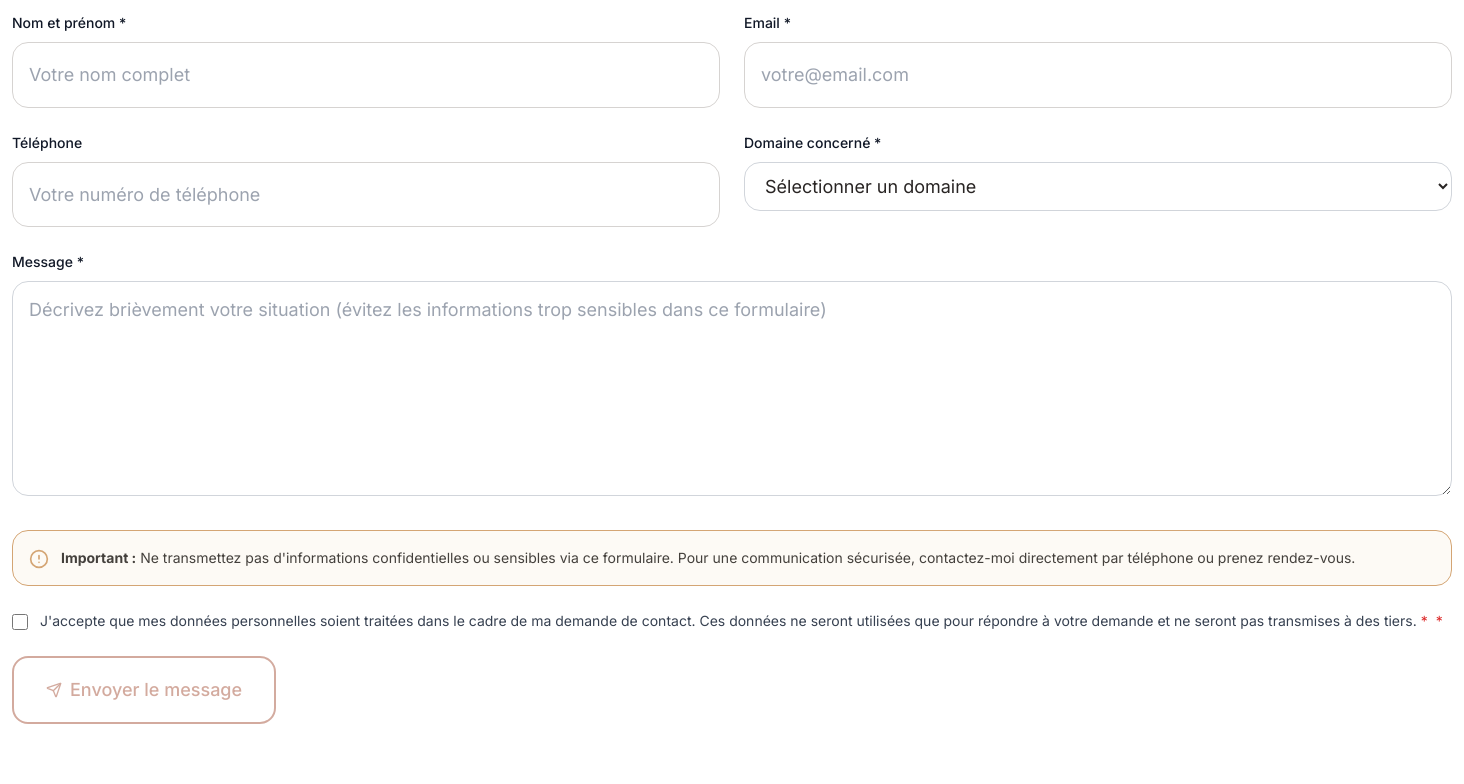
it: ContactForm Integration › should submit form successfully with valid data
# Fill in all required fields
Type "John Doe" into the field labelled "Nom et prénom *" at point(366, 75), box [12,42,720,108]
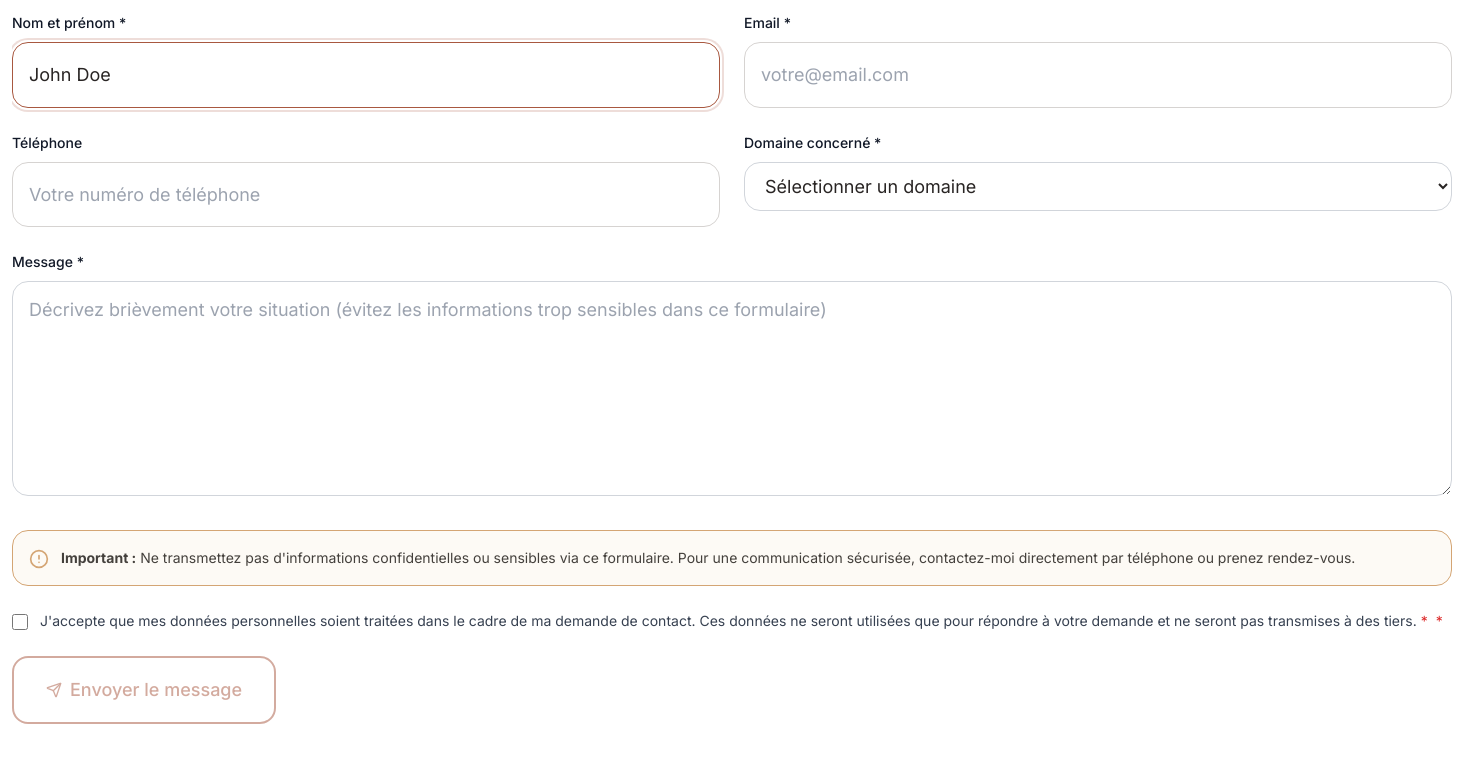
Type "john@example.com" into the field labelled "Email *" at point(1098, 75), box [744,42,1452,108]
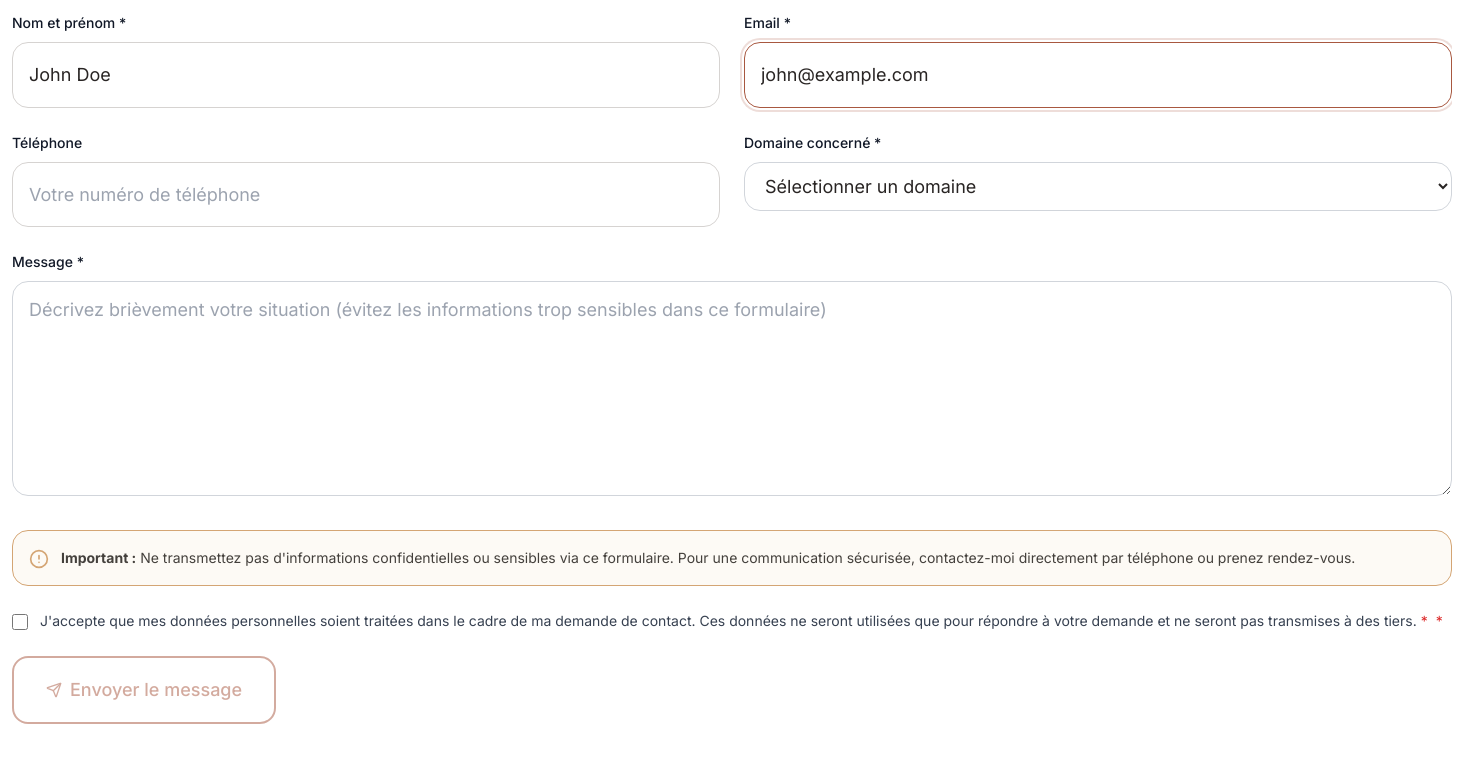
Select "Droit des contrats" in the dropdown labelled "Domaine concerné *" at point(1098, 186), box [744,162,1452,210]
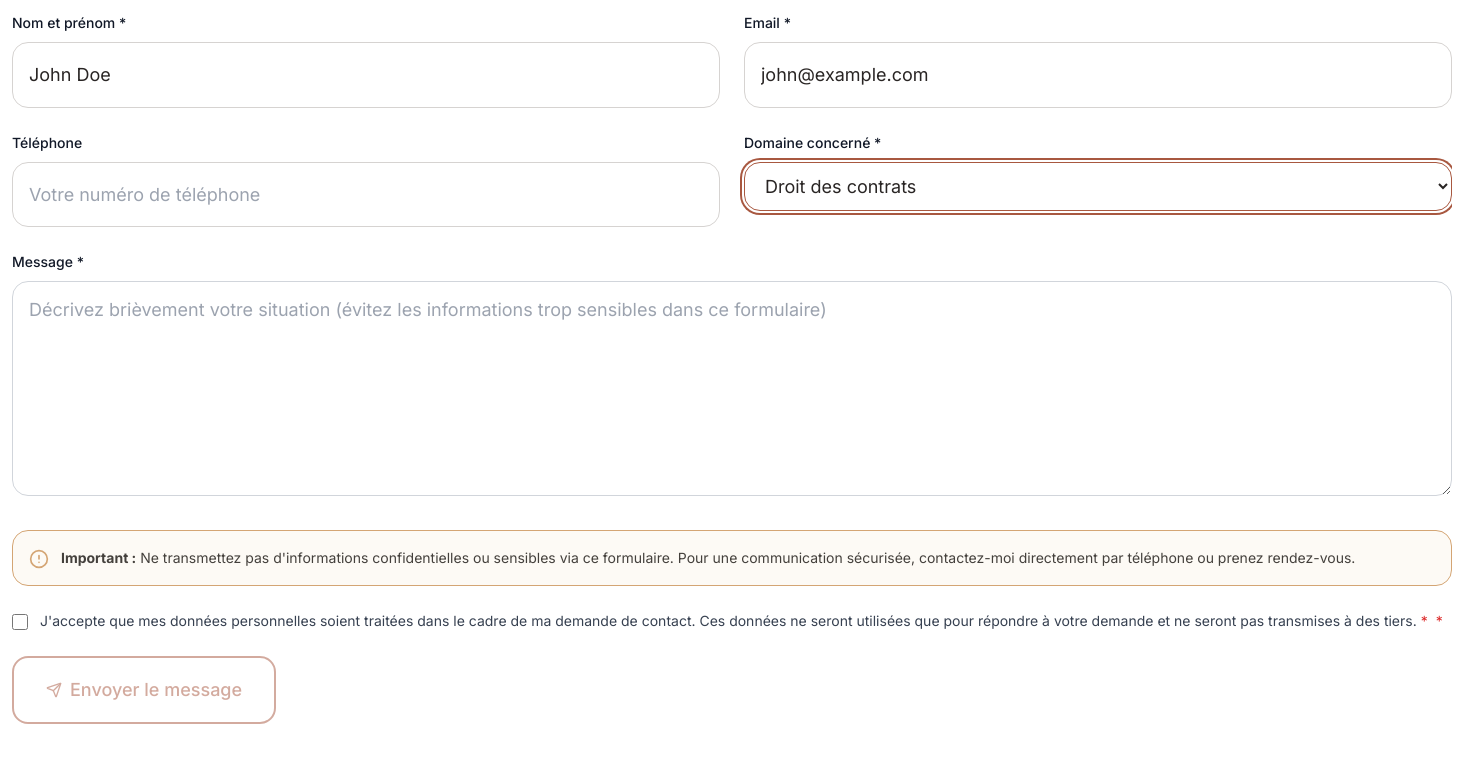
Type "This is a test message with sufficient length" into the text box labelled "Message *" at point(732, 388), box [12,281,1452,496]
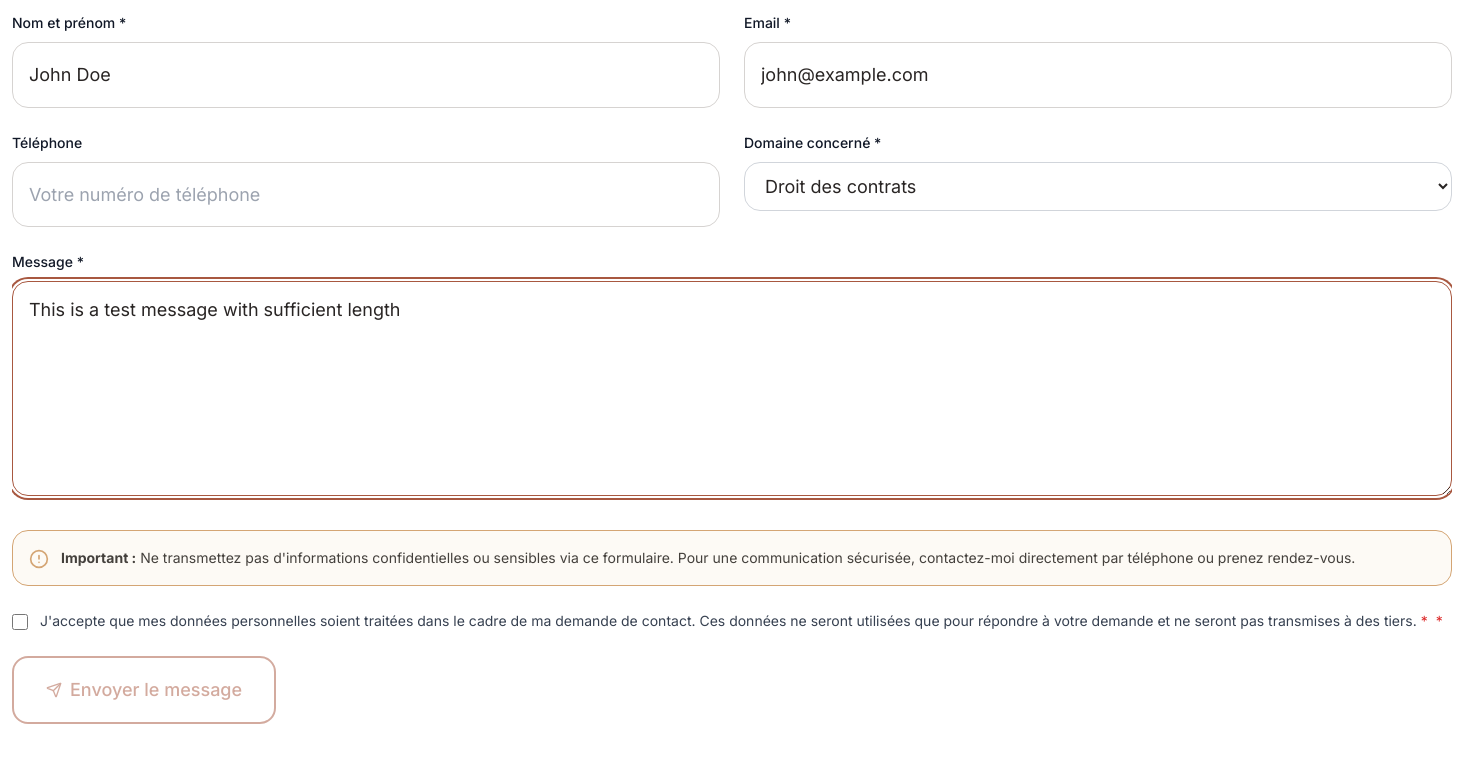
Click the checkbox at point(20, 622), box [12,614,28,630]
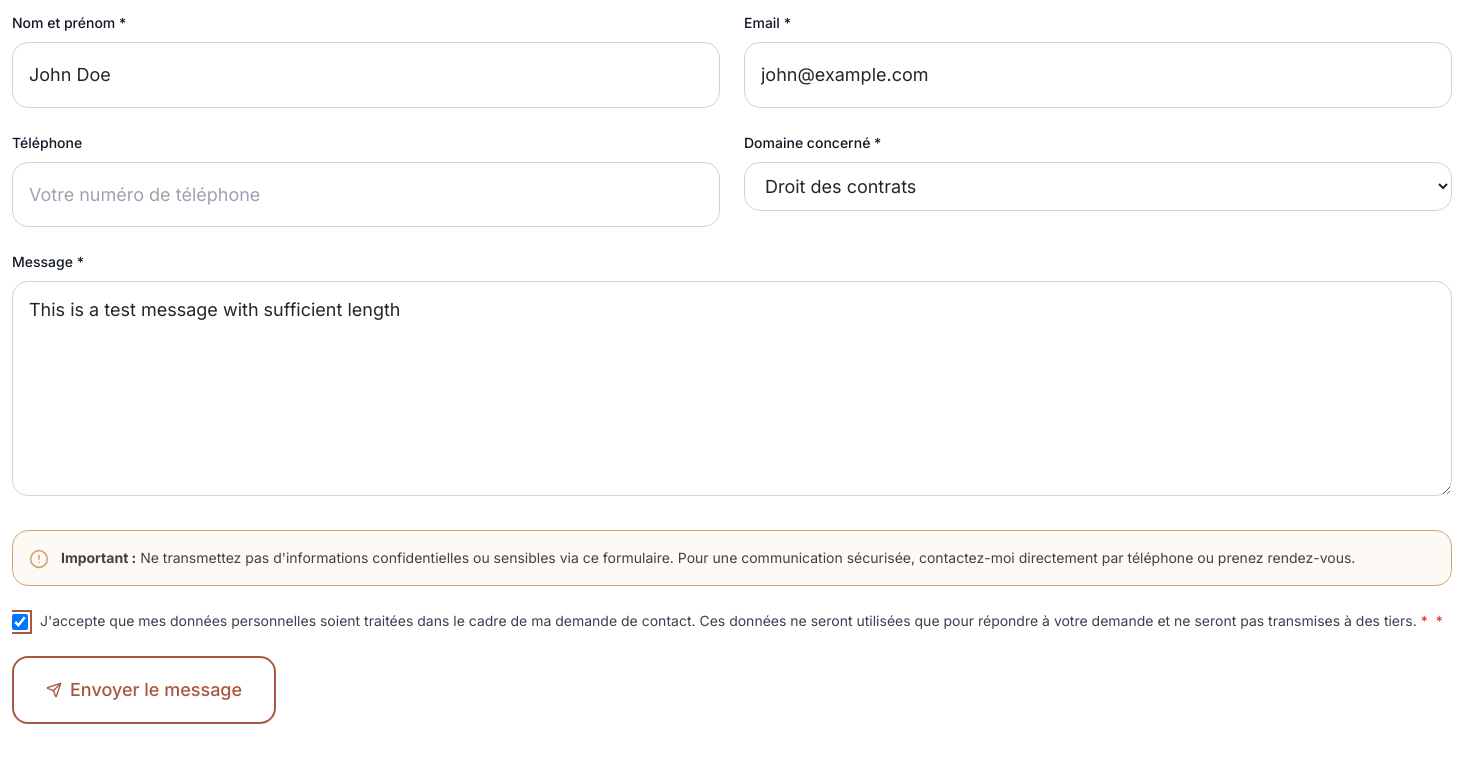
Click the button "Envoyer le message" at point(144, 690), box [12,656,276,724]
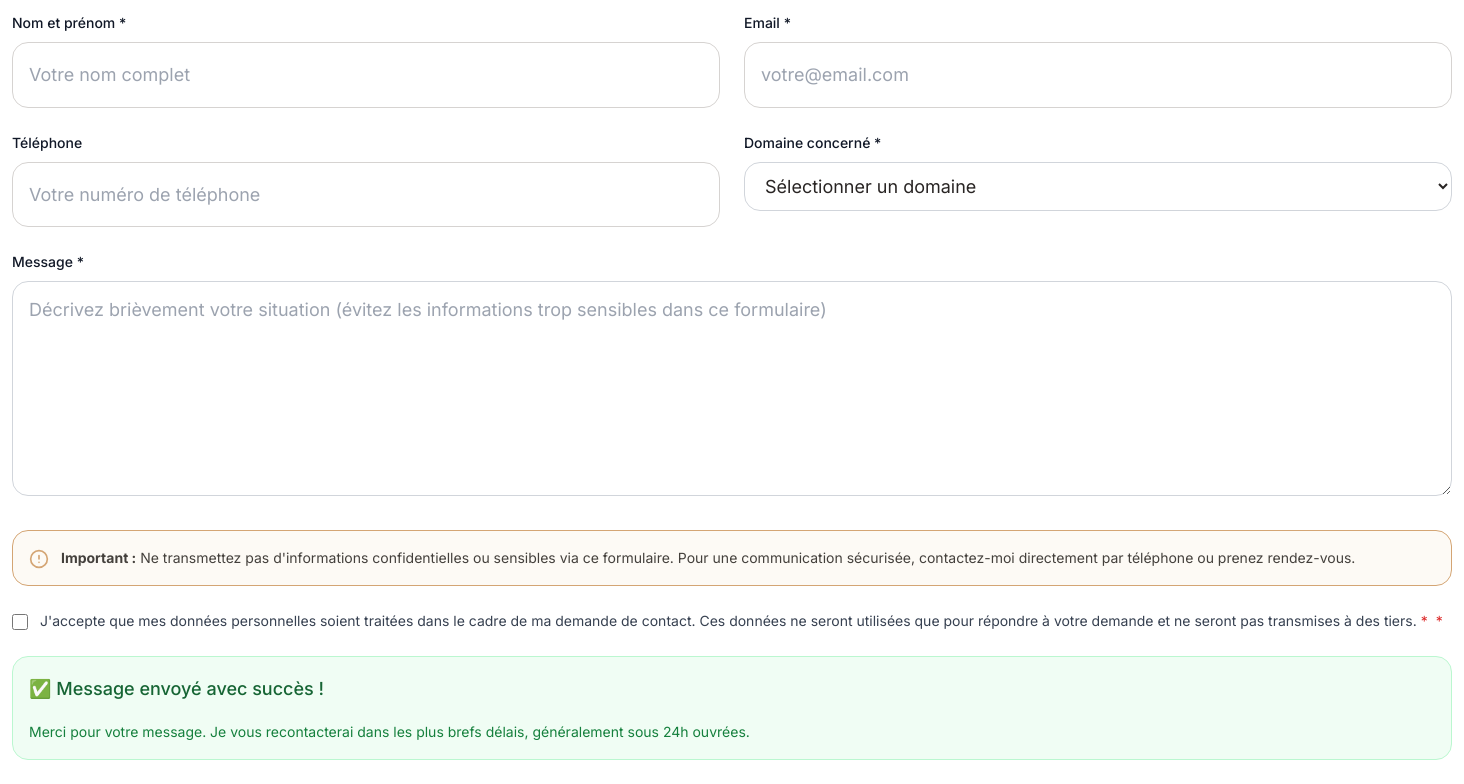
Check: the text "✅ Message envoyé avec succès !" is shown, box [29,678,324,699]
